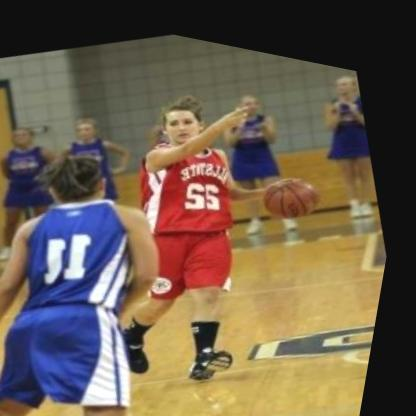basketball: (256, 151, 335, 221)
